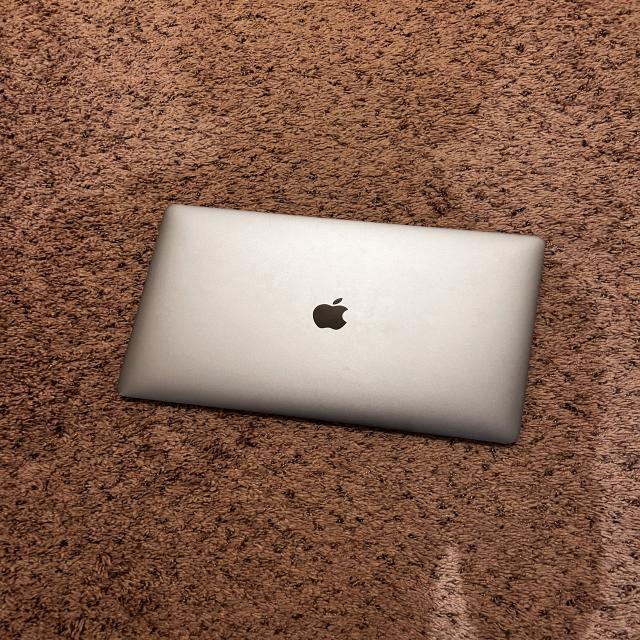laptop: (116, 201, 545, 445)
